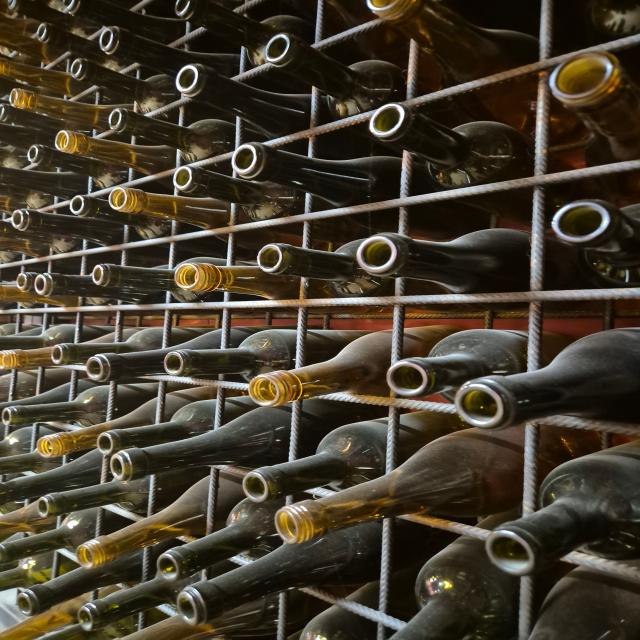Bottle: (276, 427, 524, 543), (177, 523, 382, 624), (487, 441, 639, 575), (456, 328, 639, 429), (367, 0, 539, 86), (370, 103, 533, 190), (392, 536, 519, 639), (264, 33, 405, 119), (77, 477, 210, 567), (244, 419, 388, 502), (357, 229, 530, 293), (232, 143, 402, 207), (249, 330, 392, 406), (232, 143, 401, 206), (158, 499, 283, 581), (550, 52, 639, 165), (176, 64, 311, 138), (387, 330, 527, 401), (175, 0, 313, 66), (18, 551, 142, 615), (530, 567, 639, 639), (258, 240, 393, 297), (552, 200, 639, 287), (99, 26, 239, 77), (37, 399, 157, 458), (174, 166, 304, 220), (109, 108, 235, 162), (128, 594, 279, 639), (165, 330, 296, 381), (78, 576, 196, 631), (98, 400, 216, 454), (71, 58, 178, 113), (0, 450, 103, 503), (10, 88, 133, 131), (0, 509, 97, 563), (56, 130, 175, 174), (63, 0, 185, 42), (109, 187, 230, 228), (92, 264, 221, 302), (175, 260, 300, 299), (35, 477, 150, 517), (299, 399, 381, 455), (34, 22, 126, 71), (69, 195, 170, 239), (27, 144, 128, 188), (2, 386, 109, 427), (52, 327, 163, 365), (11, 209, 122, 245), (3, 593, 89, 639), (34, 273, 148, 304), (0, 58, 89, 97), (7, 0, 97, 37), (0, 220, 79, 262), (0, 16, 62, 65), (0, 326, 69, 369), (88, 347, 173, 381), (0, 369, 70, 410), (0, 369, 71, 409), (298, 605, 377, 639), (0, 167, 87, 197), (586, 0, 639, 42), (42, 616, 137, 639), (0, 502, 56, 540), (0, 553, 53, 590), (0, 324, 75, 349), (0, 285, 77, 307), (0, 122, 56, 151), (0, 185, 53, 213), (0, 451, 61, 474), (0, 427, 32, 464), (0, 76, 58, 96), (0, 12, 37, 37), (0, 146, 29, 168), (16, 272, 39, 291), (18, 324, 41, 335)
